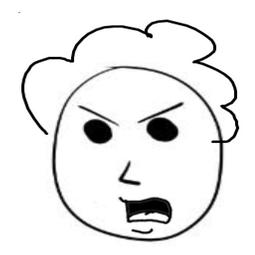eye: (82, 116, 113, 147), (146, 117, 179, 144)
frowning_eyebrow: (137, 103, 187, 126), (74, 105, 120, 125)
open_mouth: (115, 193, 177, 226)
pointy_nose: (115, 160, 143, 186)
